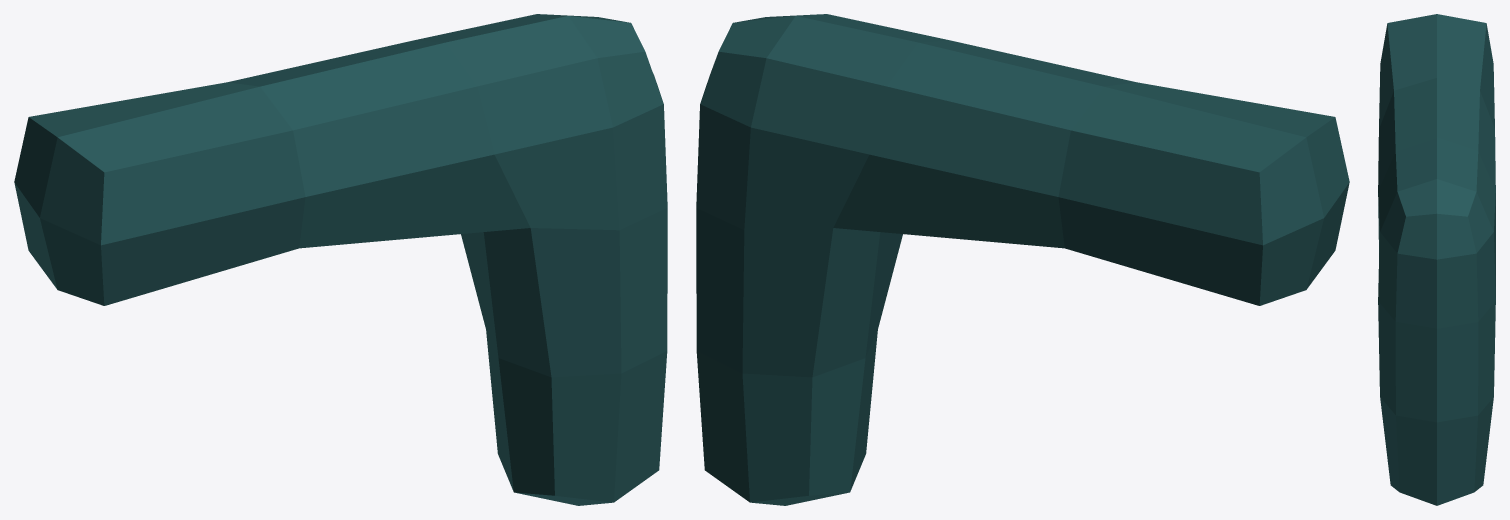
The model's file is TestGun.fbx.
The picture shows the model from 3 angles, left to right: view 1: azimuth 30°, elevation 25°; view 2: azimuth 150°, elevation 25°; view 3: azimuth 270°, elevation 25°; orthographic projection. The views are drawn at different scales.
Visible parts, largest first — view 1: TestGun; view 2: TestGun; view 3: TestGun.
Boxes of the visible parts, bbox=[...] form: TestGun: bbox=[14, 14, 667, 505]; TestGun: bbox=[696, 14, 1349, 505]; TestGun: bbox=[1378, 14, 1495, 505].
Size of the model in its own units: 78.53 by 60.36 by 19.83.
